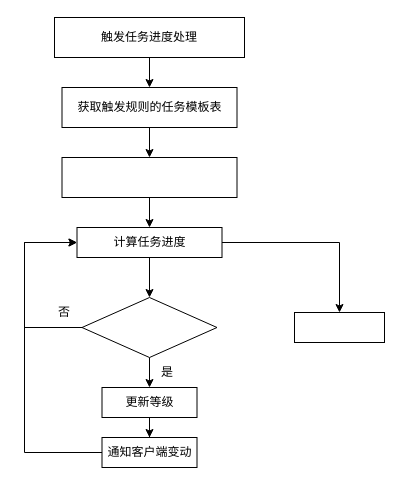
Image size: 402x485. Some labels were removed from this diagram. Here are the shapes that lost their labels. From the top down, the centre of each, then its label:
At (x=149, y=177): "从实体对象中过滤已完成最高阶".
At (x=149, y=327): "任务进度是否高于当前".
At (x=339, y=327): "循环结束".
